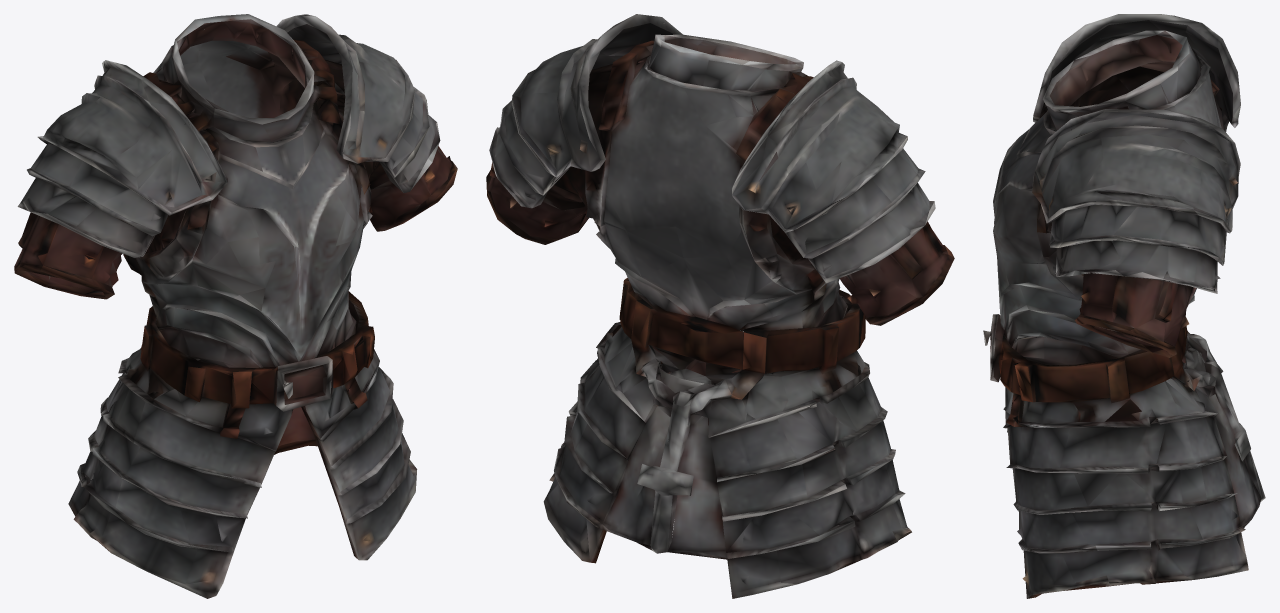
The model's file is plate-suit-15k-v6.glb.
3 views of the same model, side by side, from view 1: azimuth 30°, elevation 25°; view 2: azimuth 150°, elevation 25°; view 3: azimuth 270°, elevation 25° (orthographic). The views are drawn at different scales.
Parts seen in each view (by area): view 1: plate-suit-14k-pre; view 2: plate-suit-14k-pre; view 3: plate-suit-14k-pre.
Part boxes in pixels (x1,y1,x2,y2): plate-suit-14k-pre: (14, 14, 457, 598); plate-suit-14k-pre: (486, 14, 954, 598); plate-suit-14k-pre: (983, 14, 1265, 598).
Bounding box in the file's own units: 0.8915 × 1 × 0.4988.
Materials: 1 (1 with a texture image).
